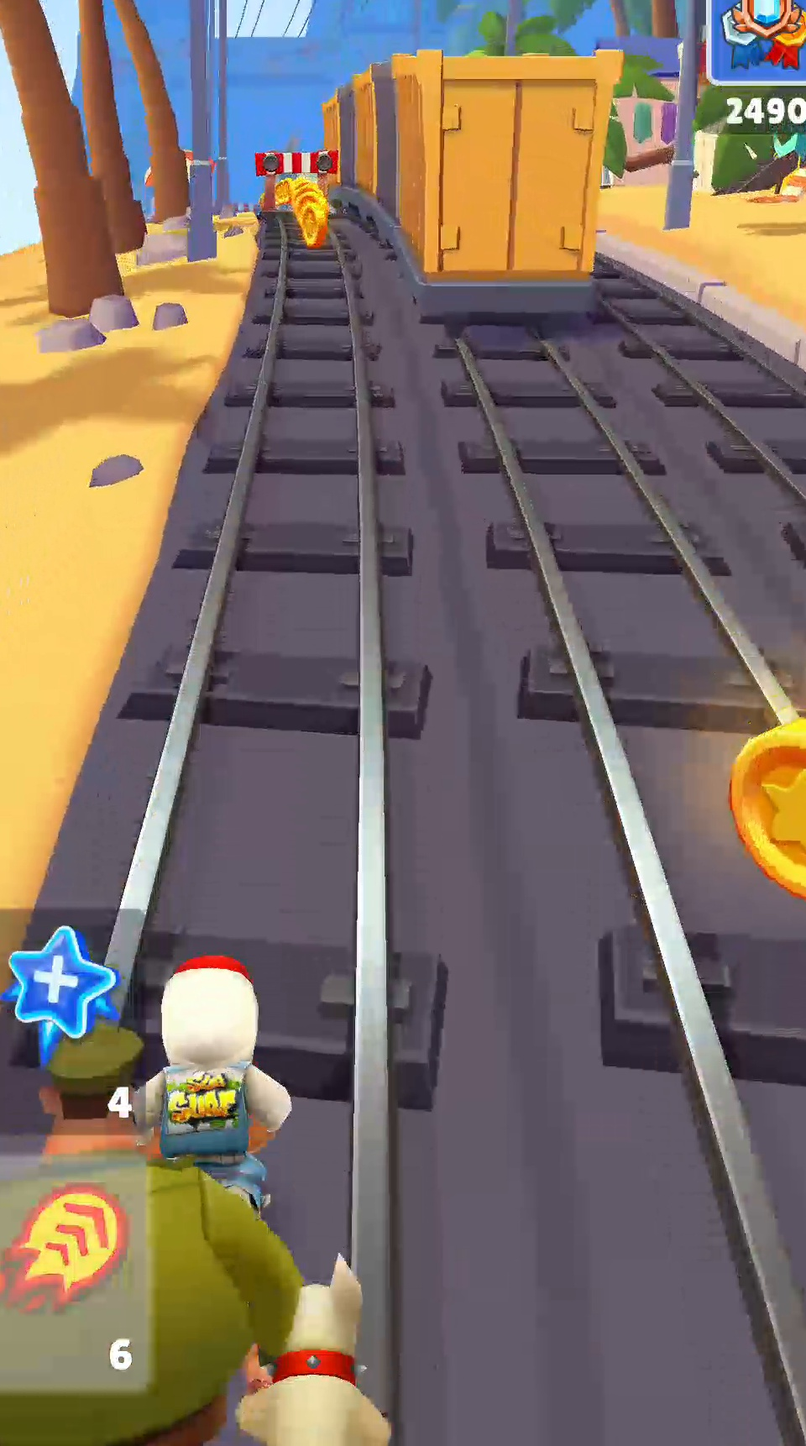blocker: (256, 151, 337, 212)
police: (0, 1024, 301, 1445)
train: (323, 50, 621, 323)
